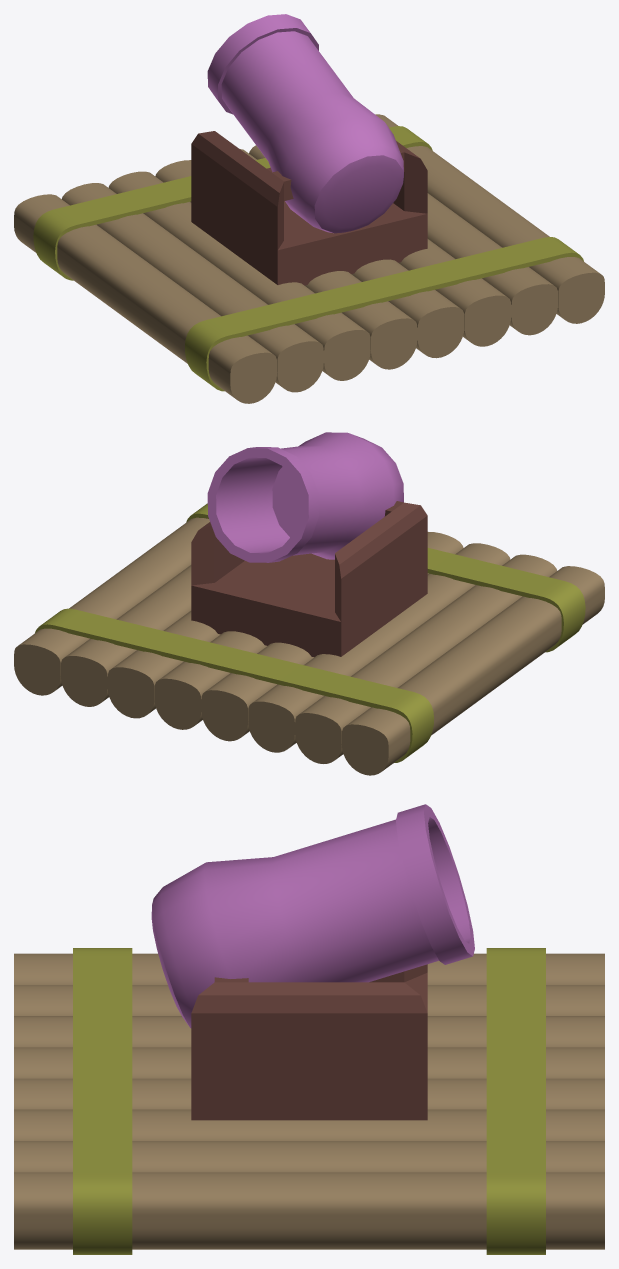
Rendered from CannonRaft.fbx.
3 views of the same model, one above another, from view 1: azimuth 30°, elevation 25°; view 2: azimuth 150°, elevation 25°; view 3: azimuth 270°, elevation 25° (orthographic). The views are drawn at different scales.
Visible parts, largest first — view 1: CannonTile, Cannon, Cube, RaftBands.005; view 2: CannonTile, Cube, Cannon, RaftBands.005; view 3: CannonTile, Cannon, RaftBands.005, Cube.
Boxes of the visible parts, box(x1,y1,x2,y2) form: CannonTile: box(14, 114, 604, 403); Cannon: box(207, 14, 403, 233); Cube: box(191, 131, 427, 285); RaftBands.005: box(33, 126, 583, 391); CannonTile: box(14, 517, 604, 775); Cube: box(191, 501, 427, 657); Cannon: box(207, 432, 403, 562); RaftBands.005: box(35, 503, 585, 762); CannonTile: box(14, 953, 604, 1249); Cannon: box(151, 804, 474, 1028); RaftBands.005: box(73, 948, 545, 1254); Cube: box(191, 964, 427, 1120).
Bounding box in the file's own units: 101 × 61.59 × 100.
